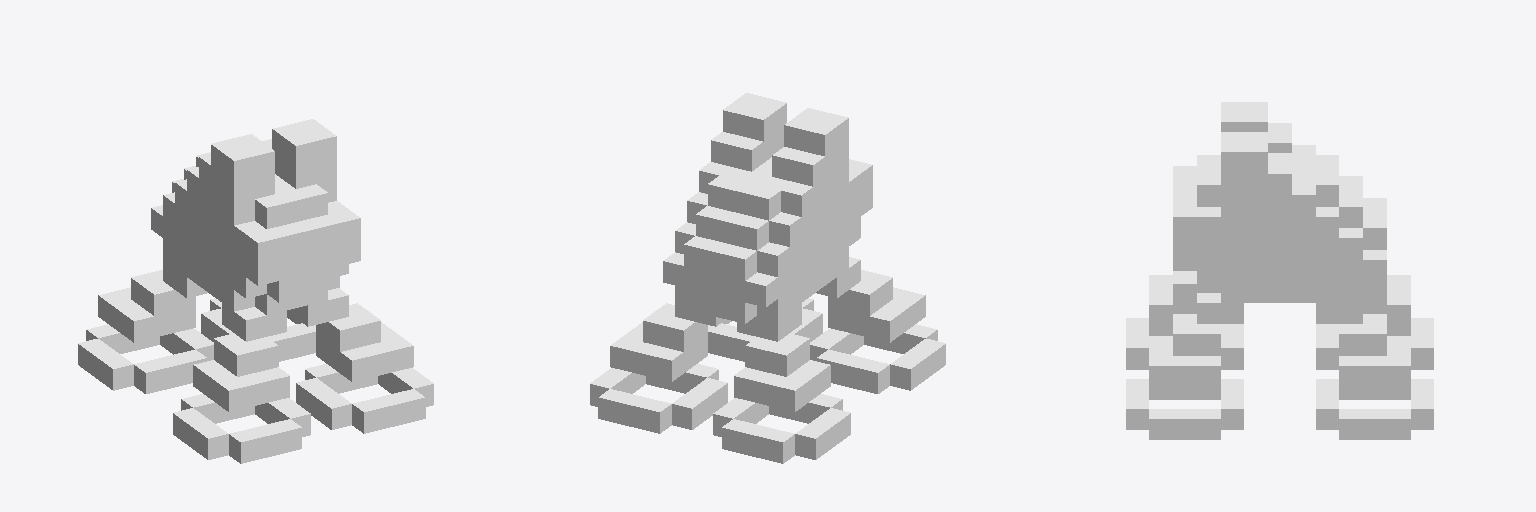
Rendered from TransportHover.obj.
3 views of the same model, side by side, from view 1: azimuth 30°, elevation 25°; view 2: azimuth 150°, elevation 25°; view 3: azimuth 270°, elevation 25° (orthographic).
Parts seen in each view (by area): view 1: object 1; view 2: object 1; view 3: object 1.
Part boxes in pixels (x1,y1,x2,y2): object 1: (78,119,433,463); object 1: (590,93,945,463); object 1: (1126,102,1433,439).
Size of the model in its own units: 1.1 by 1.2 by 1.3.